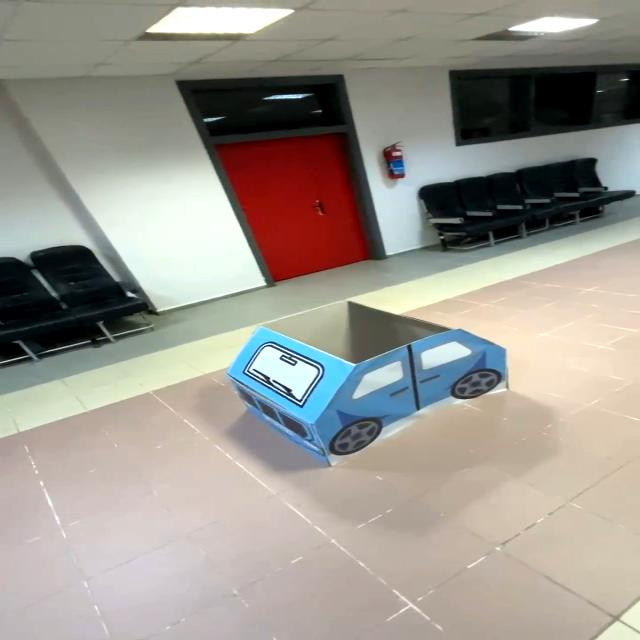blue_car: (178, 291, 563, 474)
